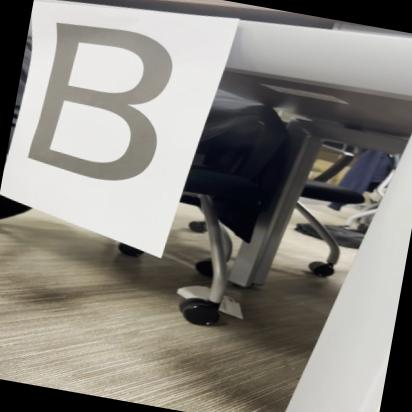seat: (15, 10, 186, 198)
